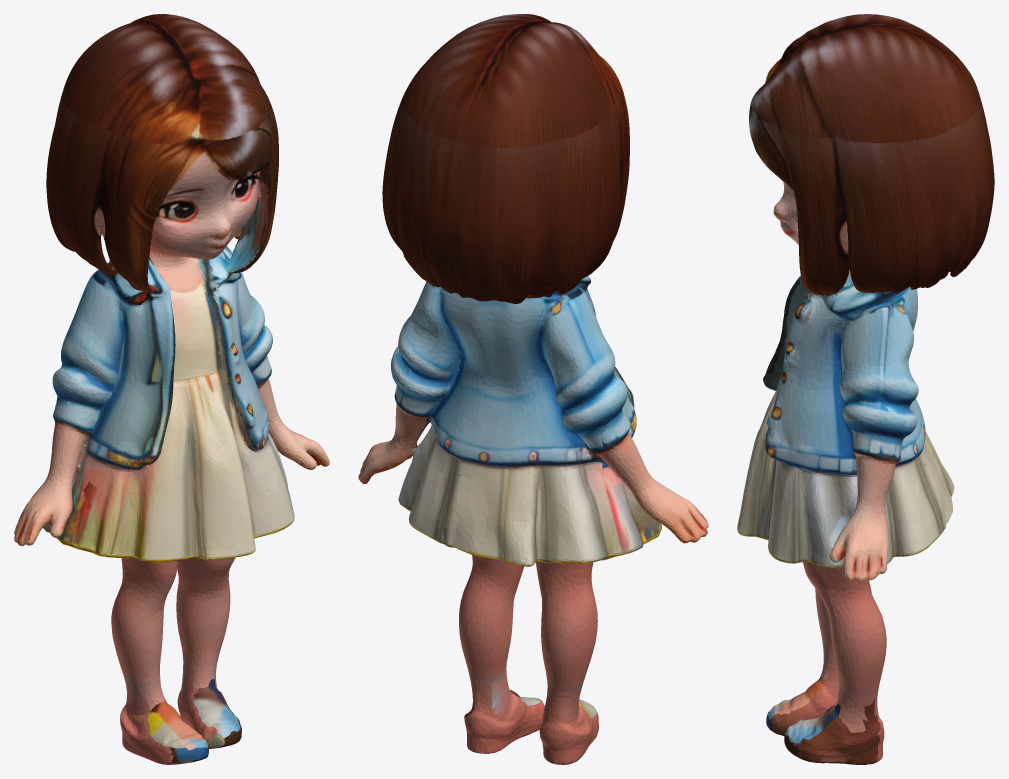
Rendered from rachel_mini_hunyuan3d-2.0_delight.glb.
The picture shows the model from 3 angles, left to right: view 1: azimuth 30°, elevation 25°; view 2: azimuth 150°, elevation 25°; view 3: azimuth 270°, elevation 25°; orthographic projection. The views are drawn at different scales.
Visible parts, largest first — view 1: temp_mesh.ply; view 2: temp_mesh.ply; view 3: temp_mesh.ply.
Boxes of the visible parts, x1=… form: temp_mesh.ply: x1=14, y1=14, x2=329, y2=764; temp_mesh.ply: x1=358, y1=14, x2=708, y2=764; temp_mesh.ply: x1=737, y1=14, x2=994, y2=764.
Bounding box in the file's own units: 0.9518 × 2 × 0.6486.
Materials: 1 (1 with a texture image).
